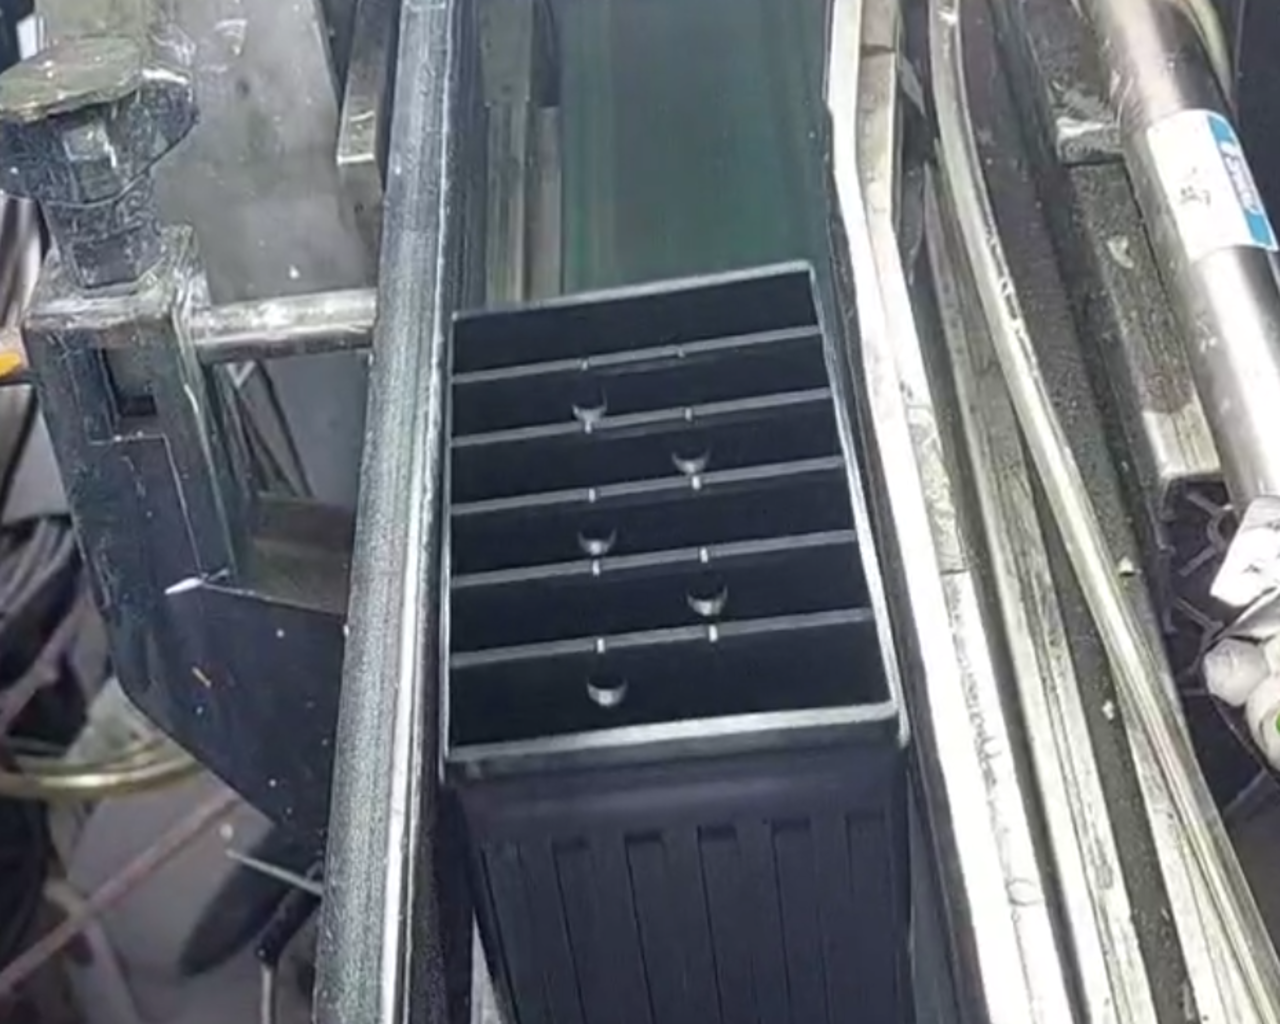box: (421, 248, 923, 800)
round: (570, 656, 643, 717), (653, 421, 727, 480), (674, 563, 740, 623), (559, 503, 627, 559), (556, 372, 618, 426)
